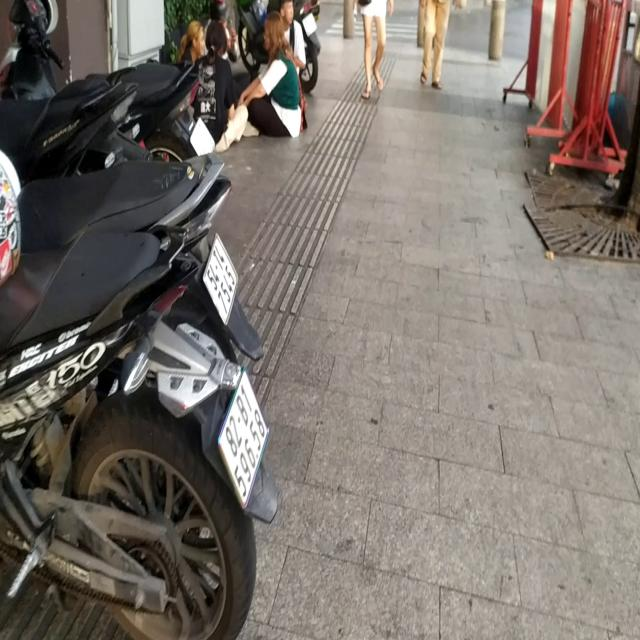bien_trang: (212, 370, 276, 514), (202, 227, 247, 327)
